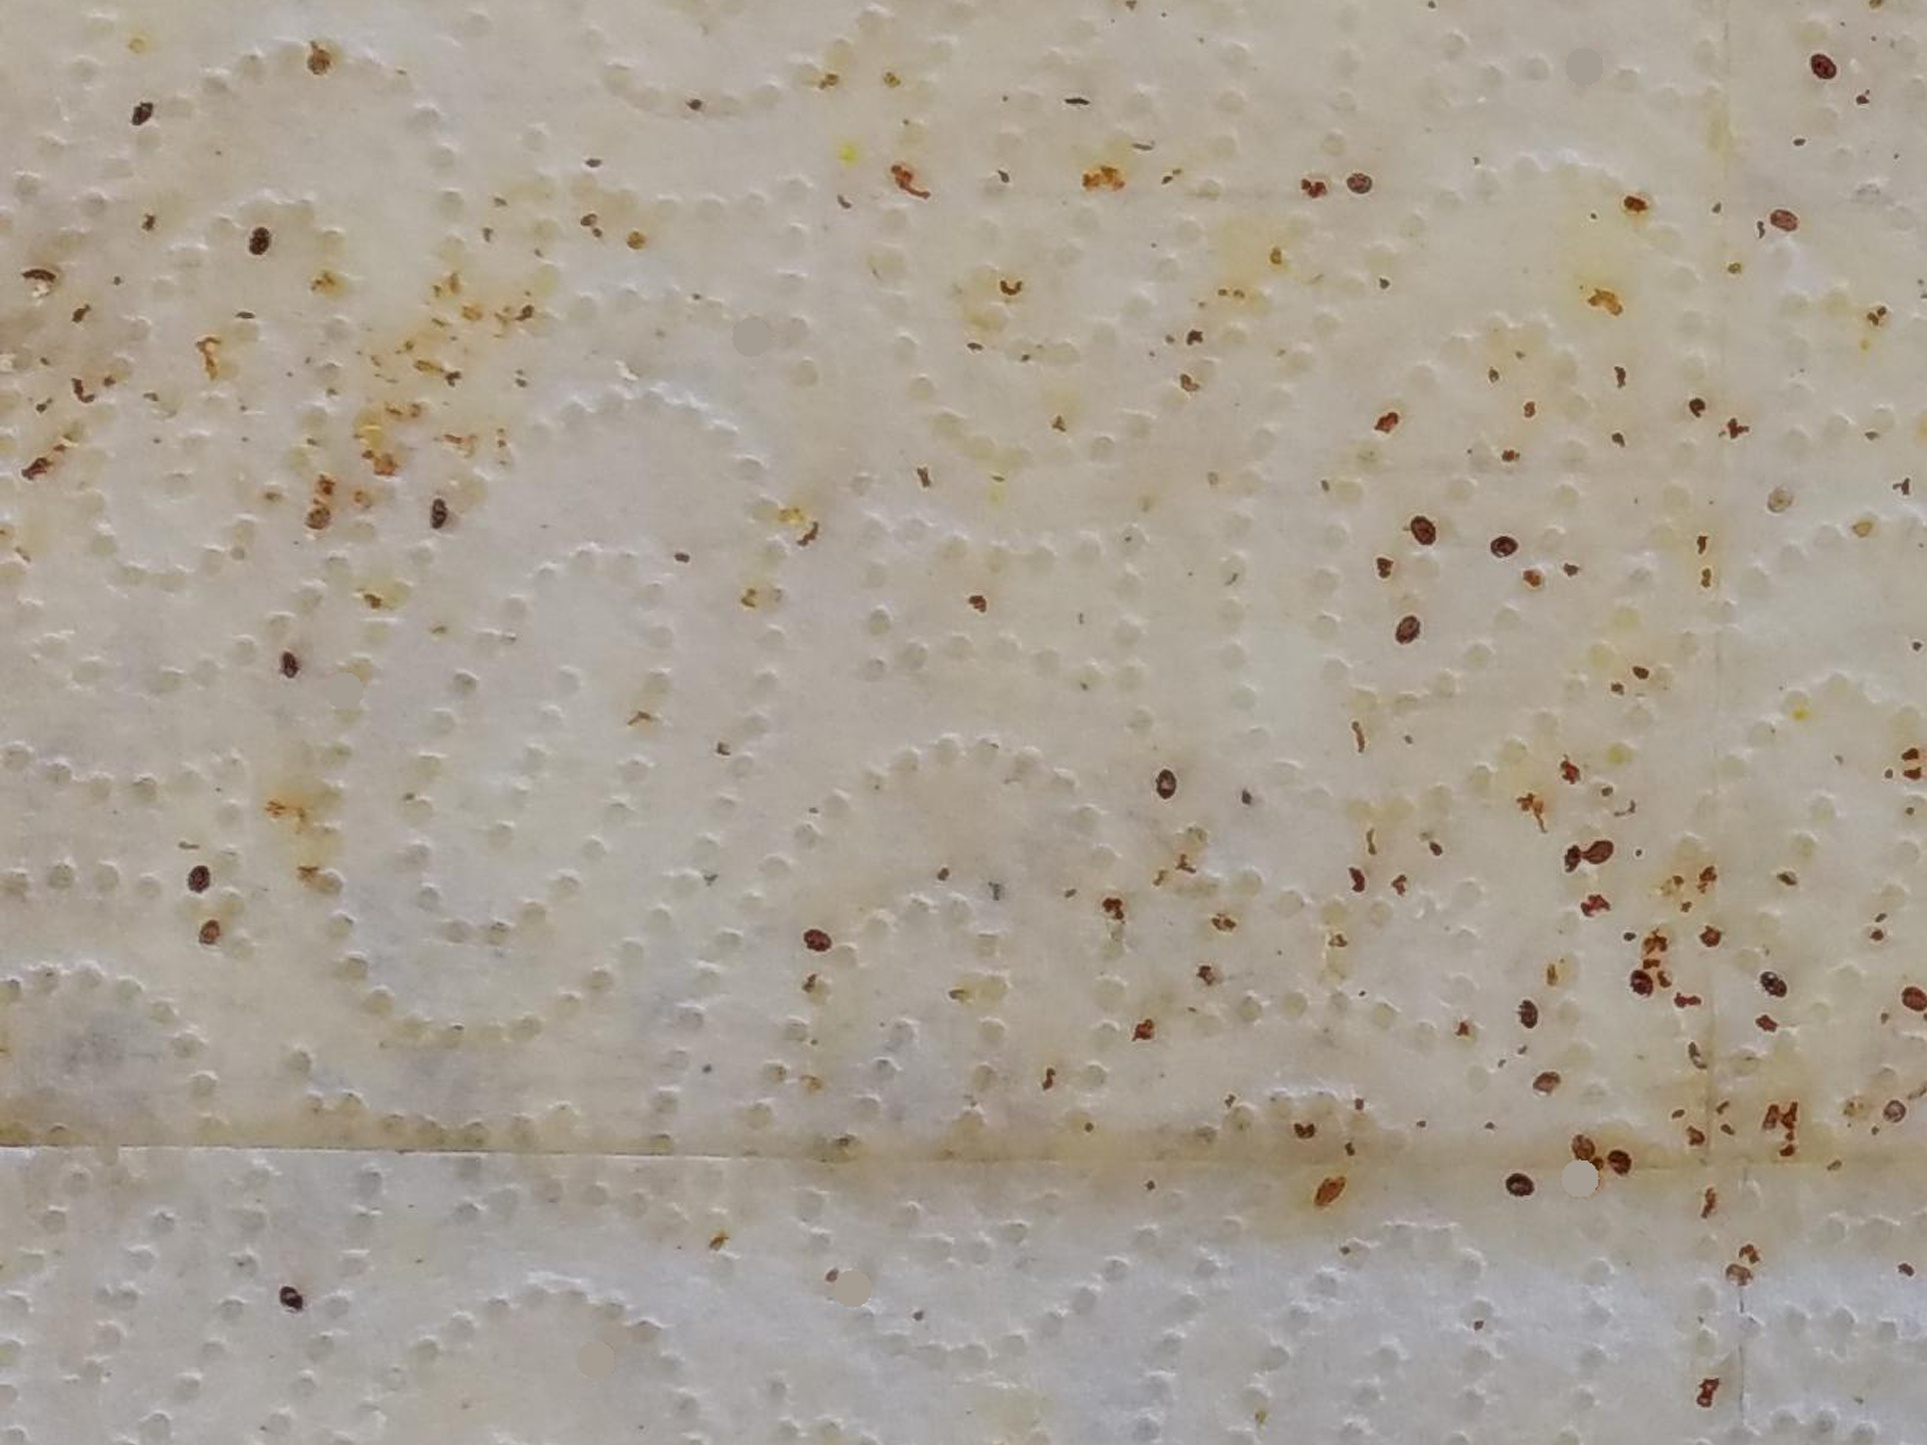Varroa: (1580, 829, 1624, 871), (1551, 836, 1593, 880), (1763, 203, 1801, 241), (299, 499, 335, 537), (1576, 838, 1611, 873), (1526, 1066, 1561, 1100), (425, 489, 460, 524), (240, 222, 273, 257), (1502, 1170, 1536, 1204), (1152, 773, 1184, 806), (803, 921, 835, 955), (127, 102, 159, 135), (1344, 168, 1378, 200), (1809, 50, 1841, 83), (1485, 531, 1517, 565), (1566, 1137, 1598, 1170), (1627, 968, 1658, 1000), (1608, 1141, 1640, 1173), (1400, 615, 1429, 650), (269, 650, 299, 682), (1514, 1005, 1545, 1037), (1760, 974, 1789, 1005), (185, 862, 214, 892), (1411, 515, 1440, 545), (281, 1281, 310, 1310), (199, 924, 228, 952)
